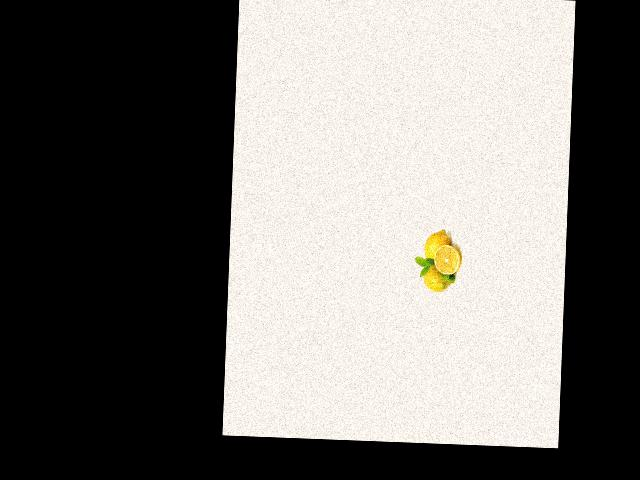lemon: (420, 260, 453, 294)
